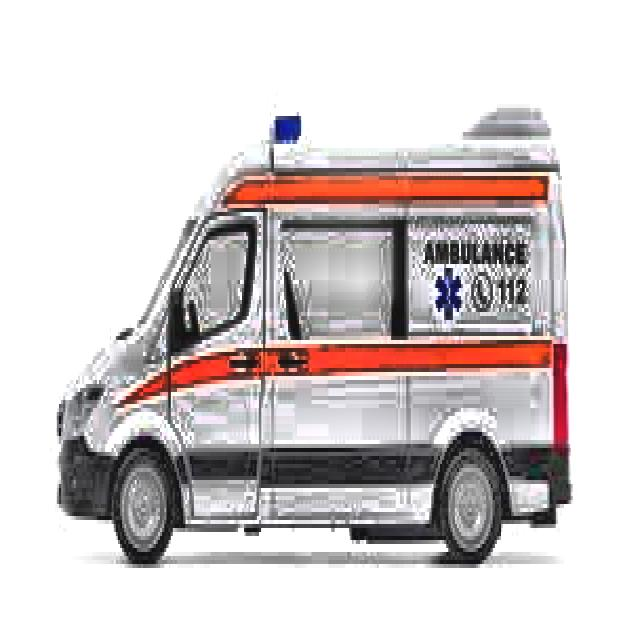Ambulance: (42, 100, 570, 560)
